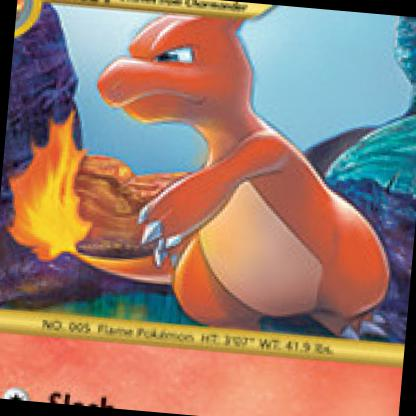Charmeleon: (48, 1, 416, 416)
